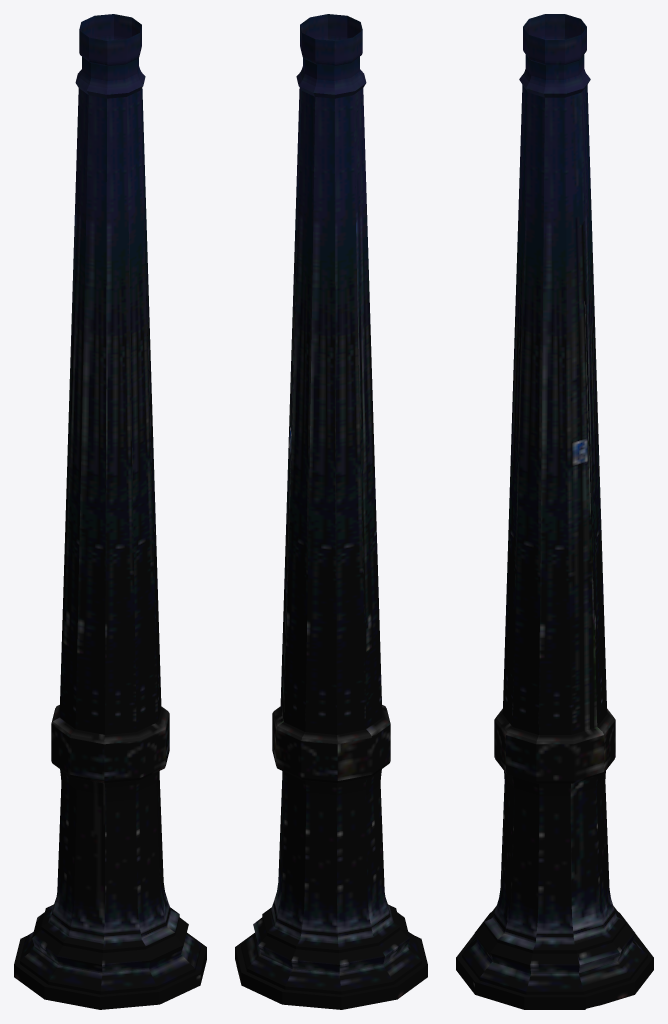
Rendered from Foral Colonial_headless.fbx.
3 views of the same model, side by side, from view 1: azimuth 30°, elevation 25°; view 2: azimuth 150°, elevation 25°; view 3: azimuth 270°, elevation 25° (orthographic).
Visible parts, largest first — view 1: Farol colonial_headless; view 2: Farol colonial_headless; view 3: Farol colonial_headless.
Boxes of the visible parts, x1,y1,x2,y2 form: Farol colonial_headless: (14,14,206,1009); Farol colonial_headless: (235,14,427,1009); Farol colonial_headless: (456,14,653,1009).
Bounding box in the file's own units: 1.02 × 5.66 × 1.07.
